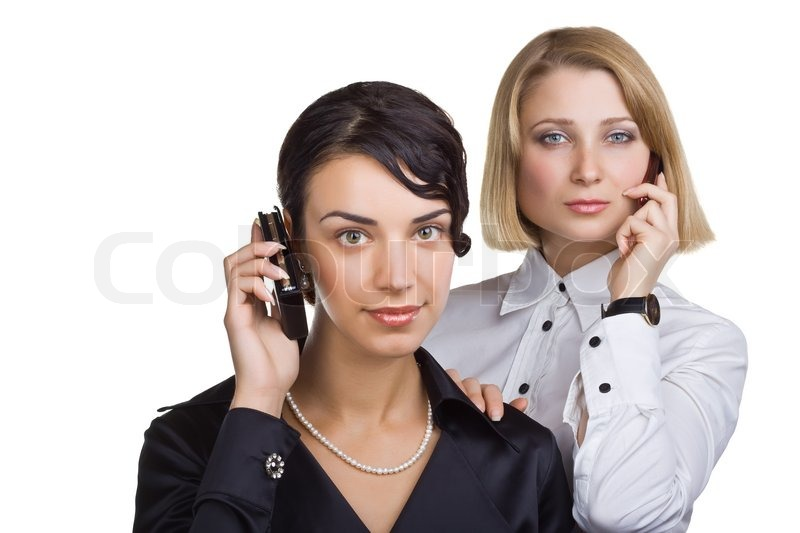phone: (219, 213, 317, 363), (616, 150, 685, 259)
talk: (222, 209, 464, 384), (525, 110, 696, 282)
